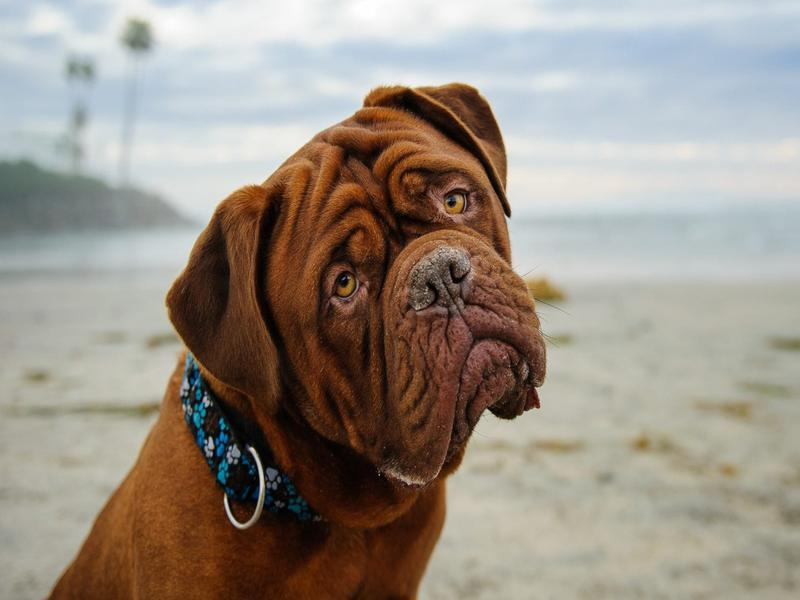dog: (45, 81, 549, 595)
